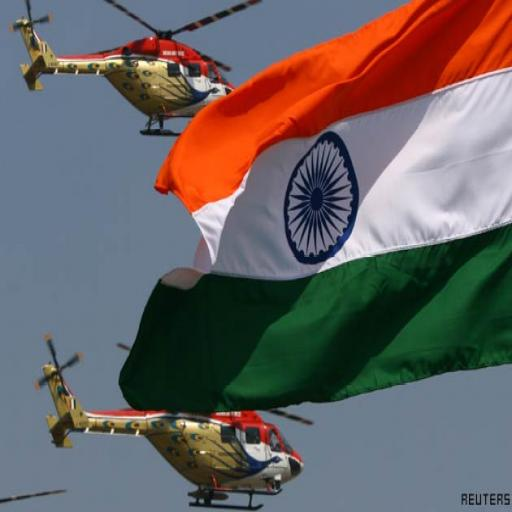helicopter: (41, 335, 325, 509), (13, 5, 268, 140), (2, 468, 66, 512)
